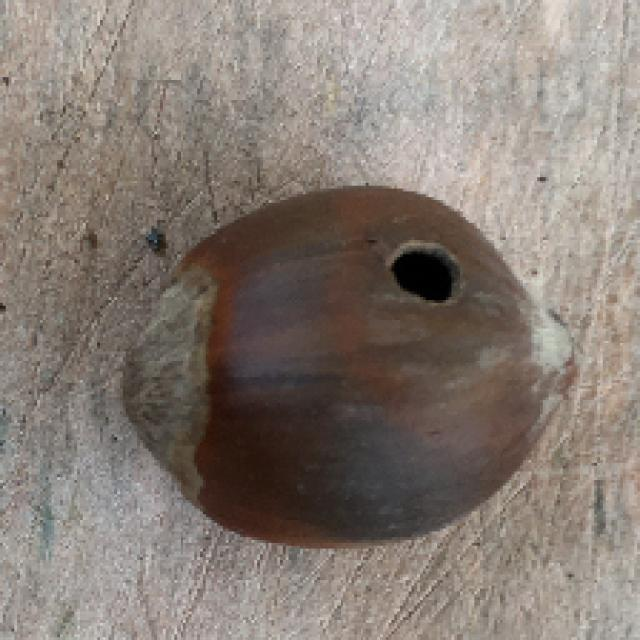damagedHazelnut: (114, 174, 590, 549)
